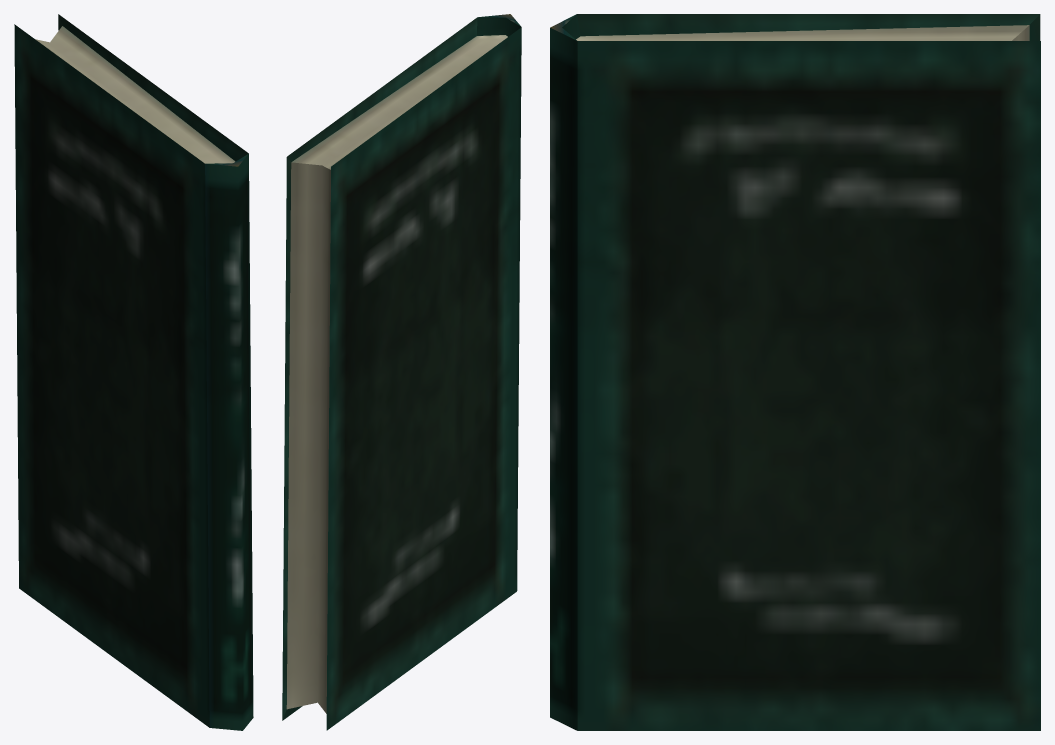
The model's file is M_Home_Garden_Book_04.fbx.
3 renders of one model, left to right at view 1: azimuth 30°, elevation 25°; view 2: azimuth 150°, elevation 25°; view 3: azimuth 270°, elevation 25°, orthographic. The views are drawn at different scales.
Visible parts, largest first — view 1: M_Home_Garden_Book_04; view 2: M_Home_Garden_Book_04; view 3: M_Home_Garden_Book_04.
Part boxes in pixels (<box>): M_Home_Garden_Book_04: <box>14,14,253,730</box>; M_Home_Garden_Book_04: <box>282,14,521,730</box>; M_Home_Garden_Book_04: <box>550,14,1040,730</box>.
Size of the model in its own units: 6.33 by 70.35 by 45.46.
